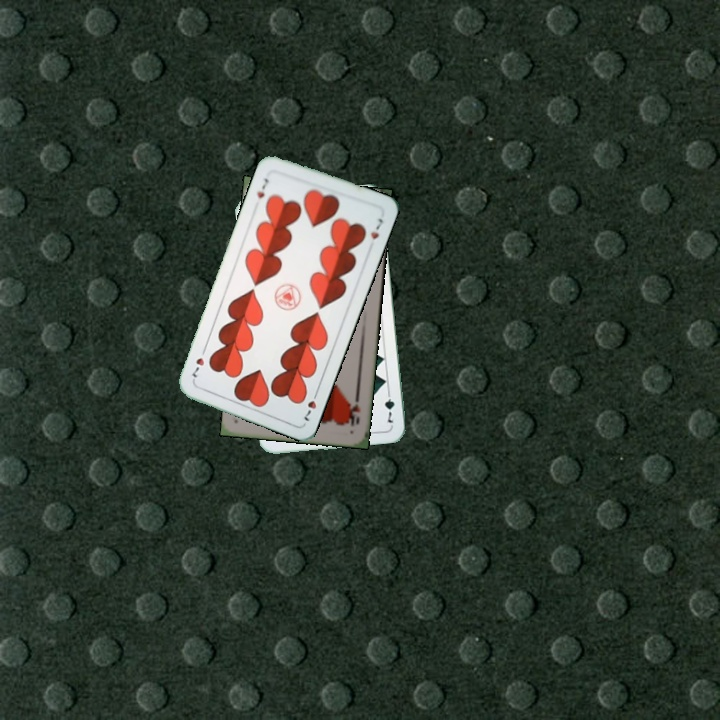G7: (380, 386, 397, 426)
H7: (300, 386, 321, 424), (253, 174, 273, 201)
HO: (346, 391, 362, 428)
